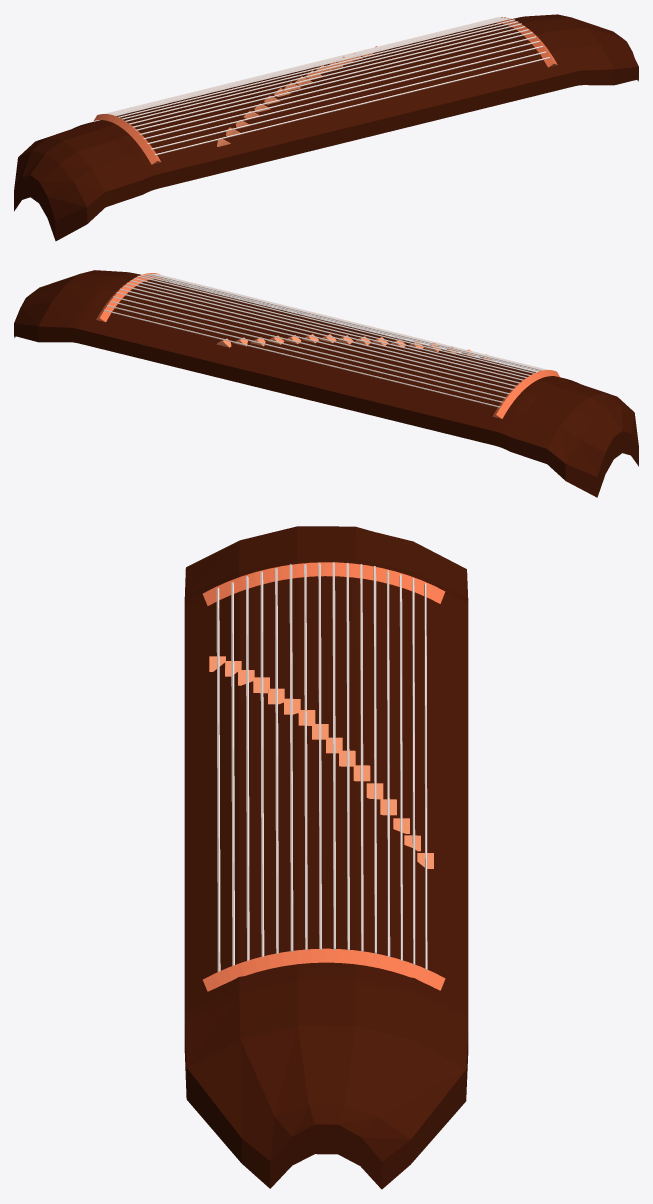
Rendered from instr04.fbx.
3 views of the same model, one above another, from view 1: azimuth 30°, elevation 25°; view 2: azimuth 150°, elevation 25°; view 3: azimuth 270°, elevation 25° (orthographic). The views are drawn at different scales.
Parts seen in each view (by area): view 1: skp72EF1; view 2: skp72EF1; view 3: skp72EF1.
Boxes of the visible parts, box(x1,y1,x2,y2) form: skp72EF1: box(14, 14, 638, 241); skp72EF1: box(14, 270, 638, 497); skp72EF1: box(184, 526, 468, 1189).
Size of the model in its own units: 419 by 56.05 by 87.46.
